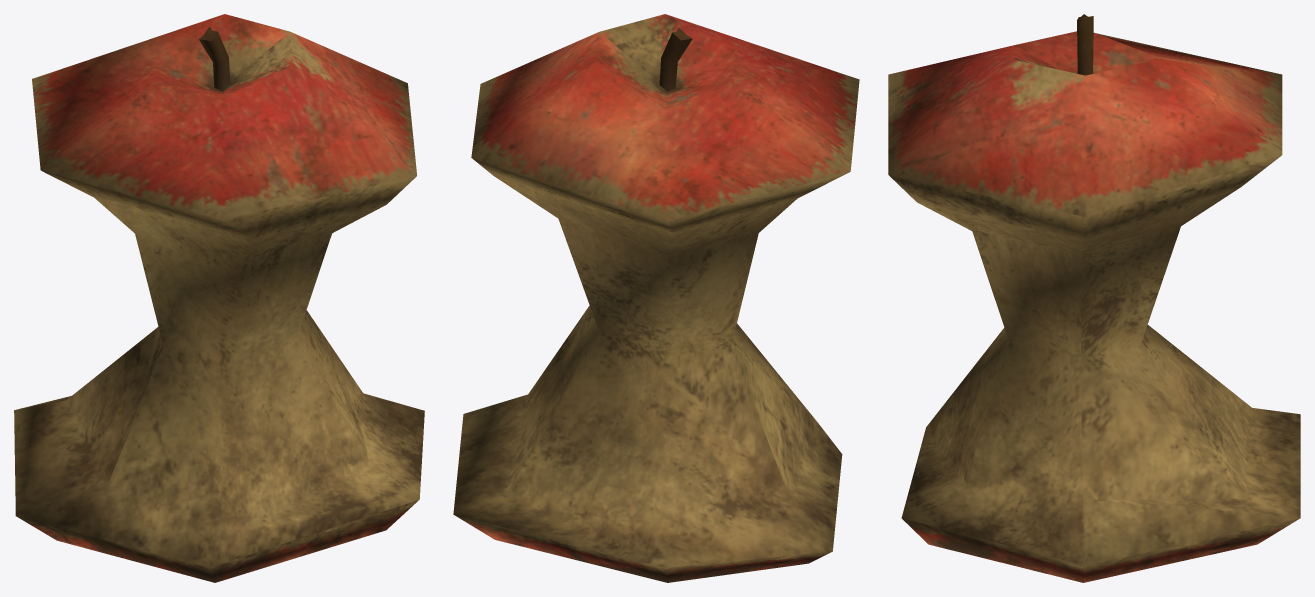
Rendered from Apple.fbx.
3 views of the same model, side by side, from view 1: azimuth 30°, elevation 25°; view 2: azimuth 150°, elevation 25°; view 3: azimuth 270°, elevation 25° (orthographic). The views are drawn at different scales.
Visible parts, largest first — view 1: Apple_Rotten_GEO; view 2: Apple_Rotten_GEO; view 3: Apple_Rotten_GEO.
Part boxes in pixels (x1,y1,x2,y2): Apple_Rotten_GEO: [14, 14, 424, 582]; Apple_Rotten_GEO: [453, 14, 859, 582]; Apple_Rotten_GEO: [888, 14, 1300, 582].
Bounding box in the file's own units: 9.05 × 11.27 × 8.12.
